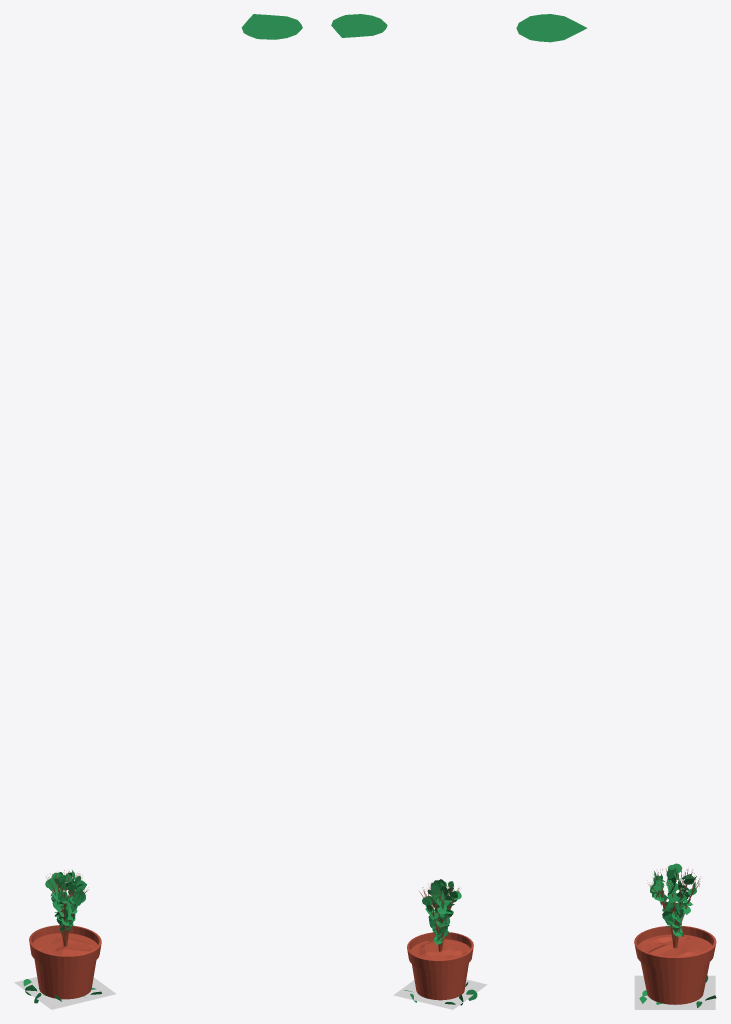
Rendered from aswwaganddha.glb.
3 views of the same model, side by side, from view 1: azimuth 30°, elevation 25°; view 2: azimuth 150°, elevation 25°; view 3: azimuth 270°, elevation 25° (orthographic). The views are drawn at different scales.
Visible parts, largest first — view 1: Cylinder, Plane.001, Plane; view 2: Cylinder, Plane.001, Plane, tree; view 3: Cylinder, Plane.001, Plane, tree.
Boxes of the visible parts, x1,y1,x2,y2 form: Cylinder: [29, 925, 101, 999]; Plane.001: [241, 14, 302, 39]; Plane: [14, 977, 116, 1009]; Cylinder: [407, 932, 473, 1000]; Plane.001: [331, 14, 387, 37]; Plane: [393, 979, 487, 1009]; tree: [419, 882, 459, 952]; Cylinder: [634, 925, 716, 1004]; Plane.001: [516, 14, 587, 42]; Plane: [634, 975, 715, 1009]; tree: [647, 866, 700, 948].
Size of the model in its own units: 9.21 by 40.86 by 7.07.
